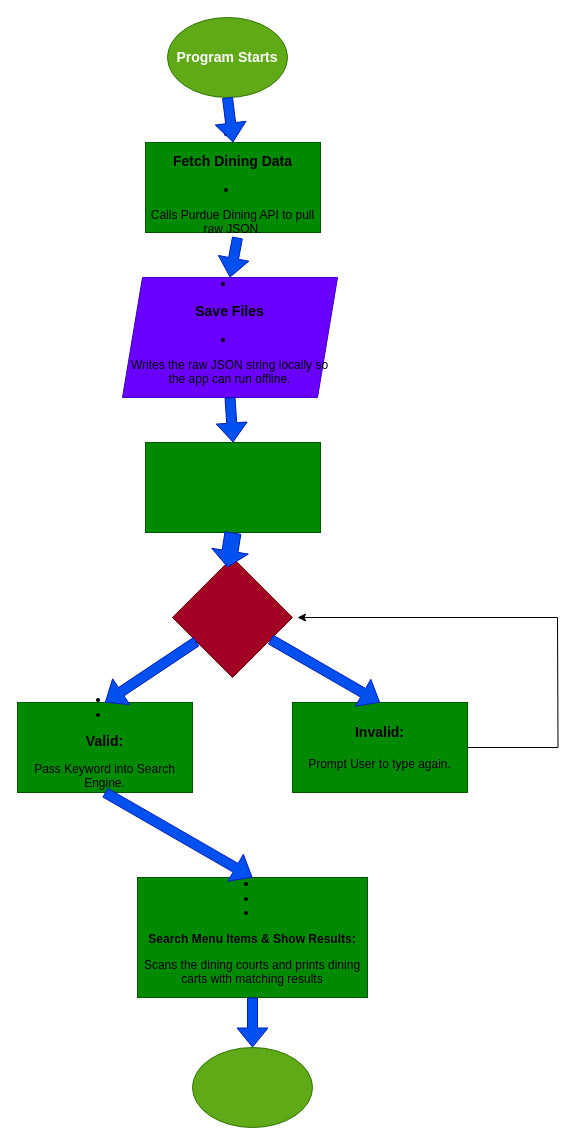
Image size: 583x1145. Some labels were removed from this diagram. Each missing label, with the centre of its shape:
Parse JSON into Objects Uses Gson/Jackson to map JSON data into Java classes: [232,487]
Program End: [252,1087]
User Search With Keywords: [232,617]
